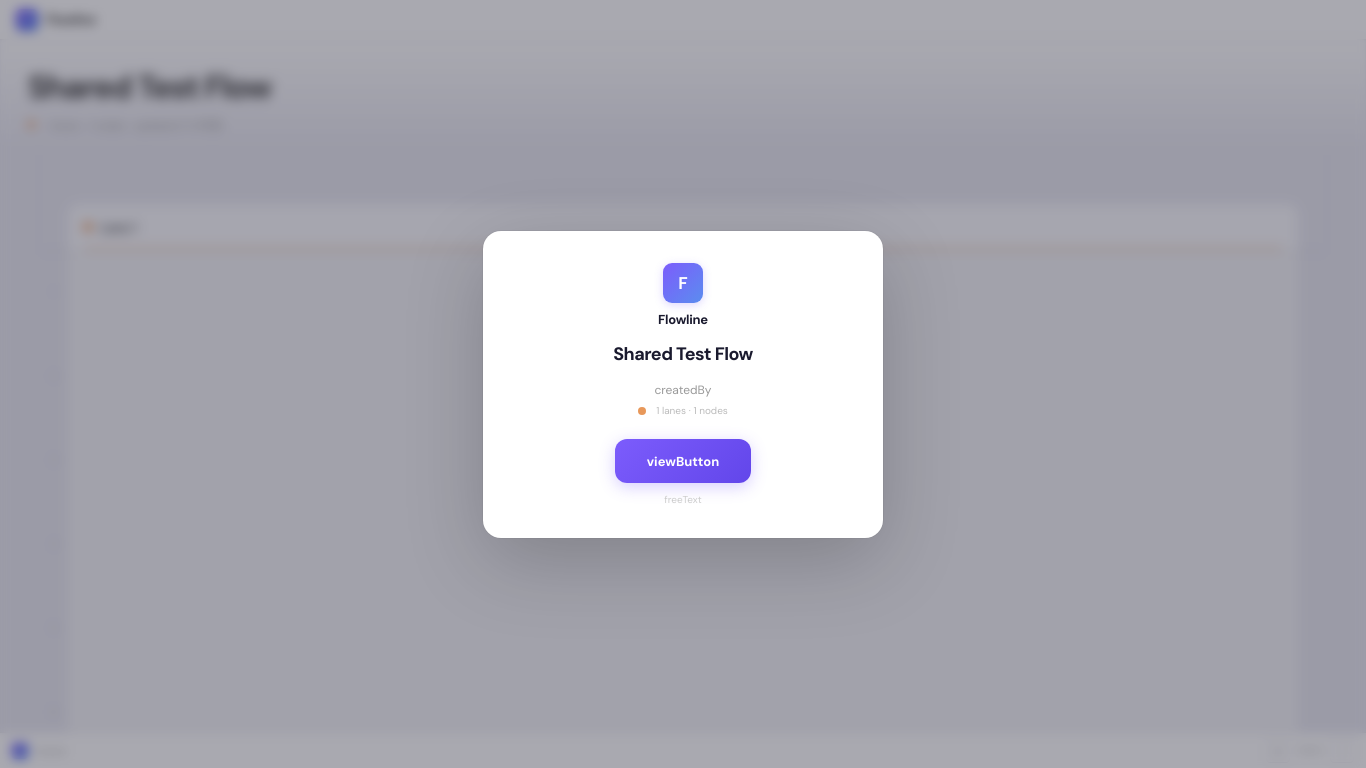
Test case: SharedFlowPage › Teaser modal and bottom CTA bar › should show bottom CTA bar 3 seconds after modal close
Click the button "viewButton": {"x": 683, "y": 460} [615,438,751,482]
Wait 3000 ms
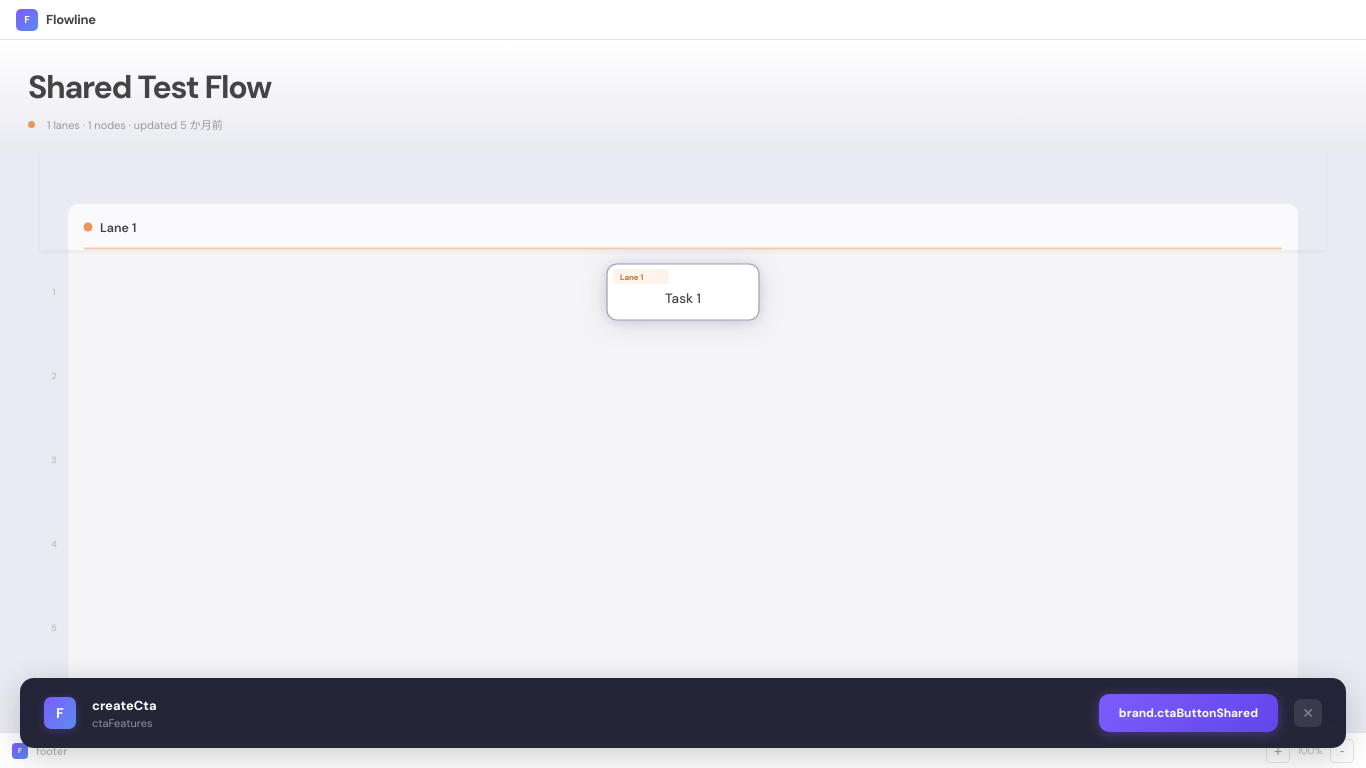
Check: the element with test id "bottom-cta-bar" is shown, box [0,678,1365,767]
